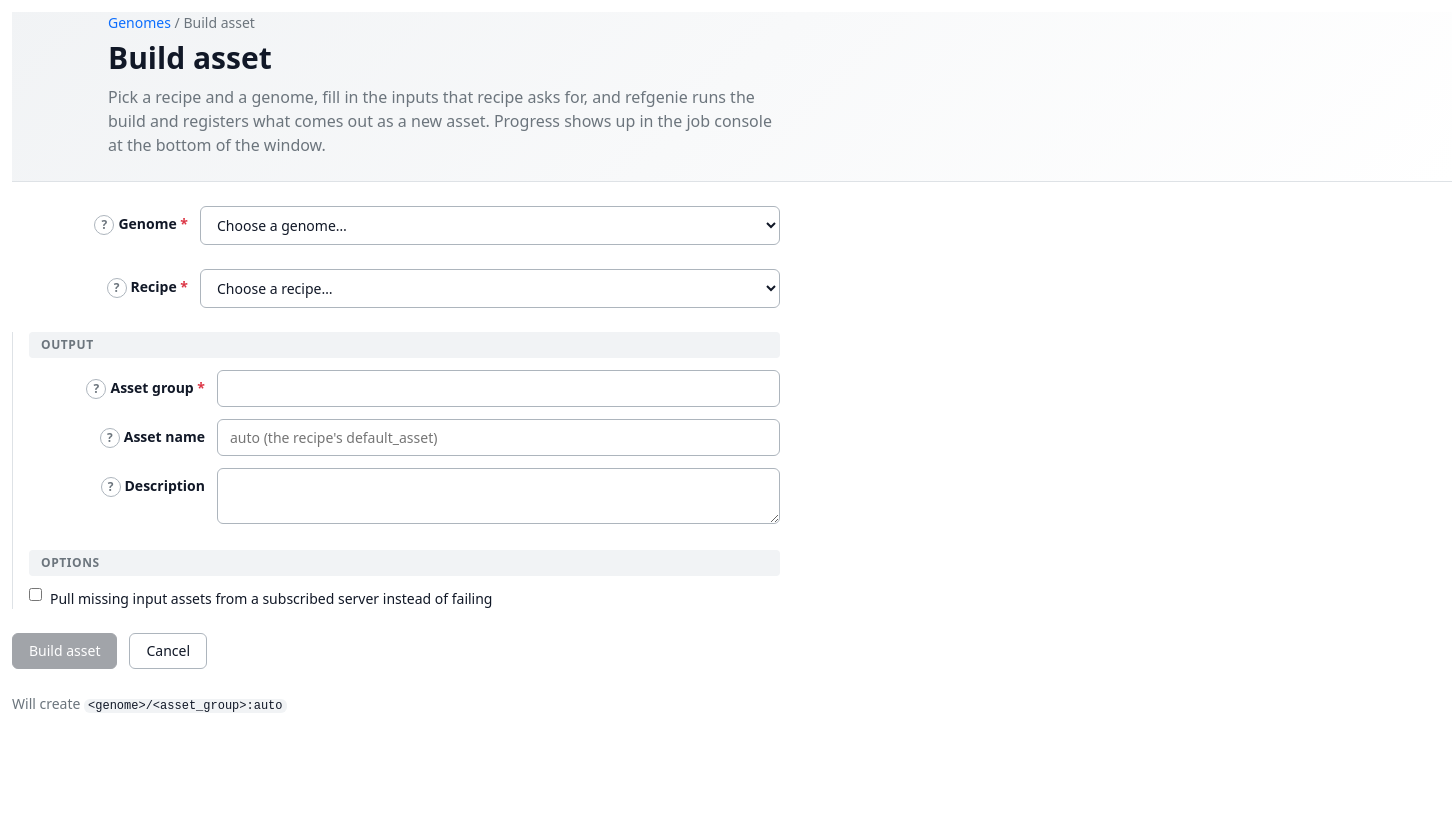
Test: BuildPage › says under the recipe when no container engine can run its image
Step 1. Select "hg38" in the dropdown labelled "Genome *" → (490, 226), box [200,206,780,245]
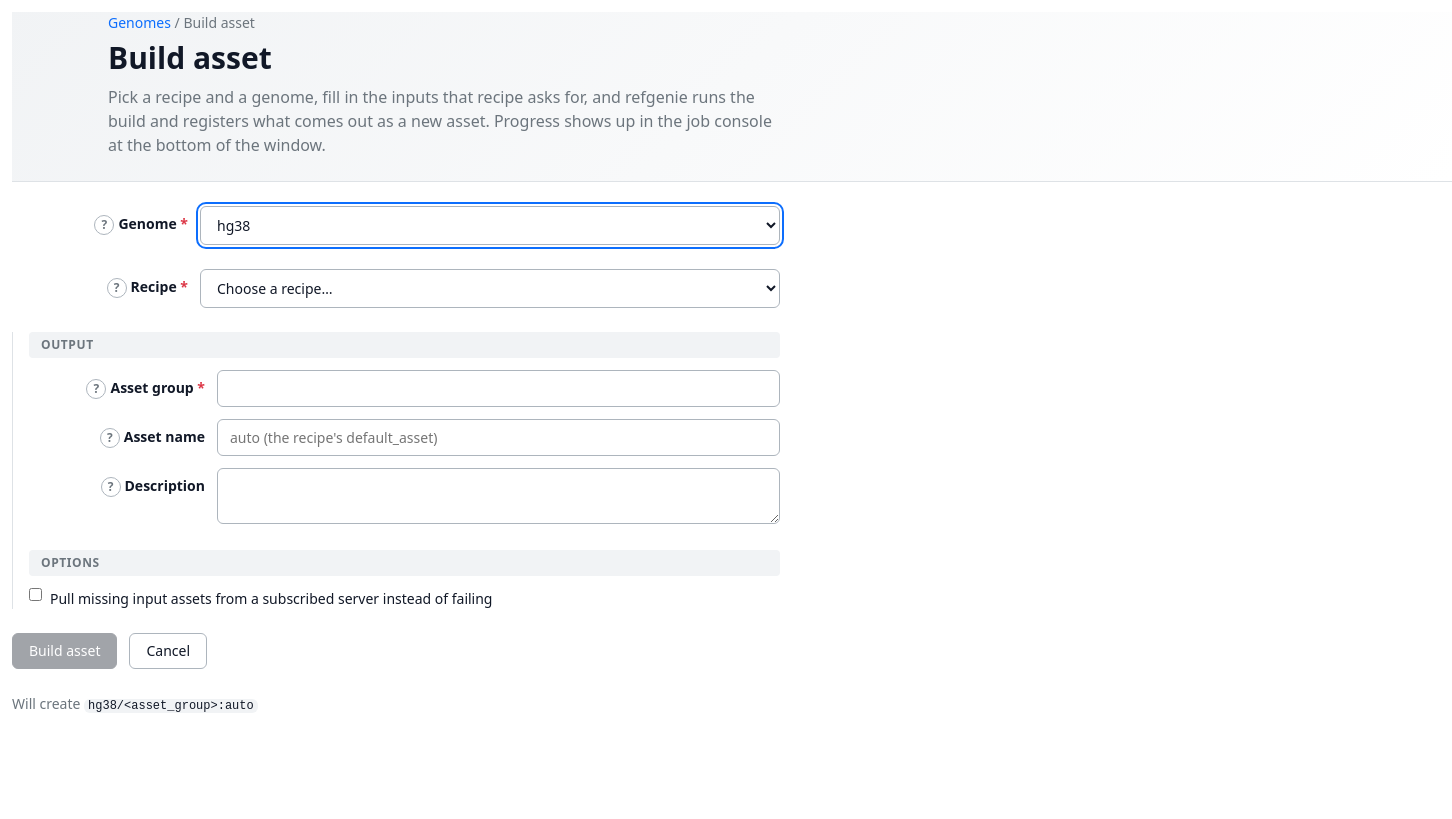
Step 2. Select "bowtie2_index" in the dropdown labelled "Recipe *" → (490, 288), box [200,269,780,308]
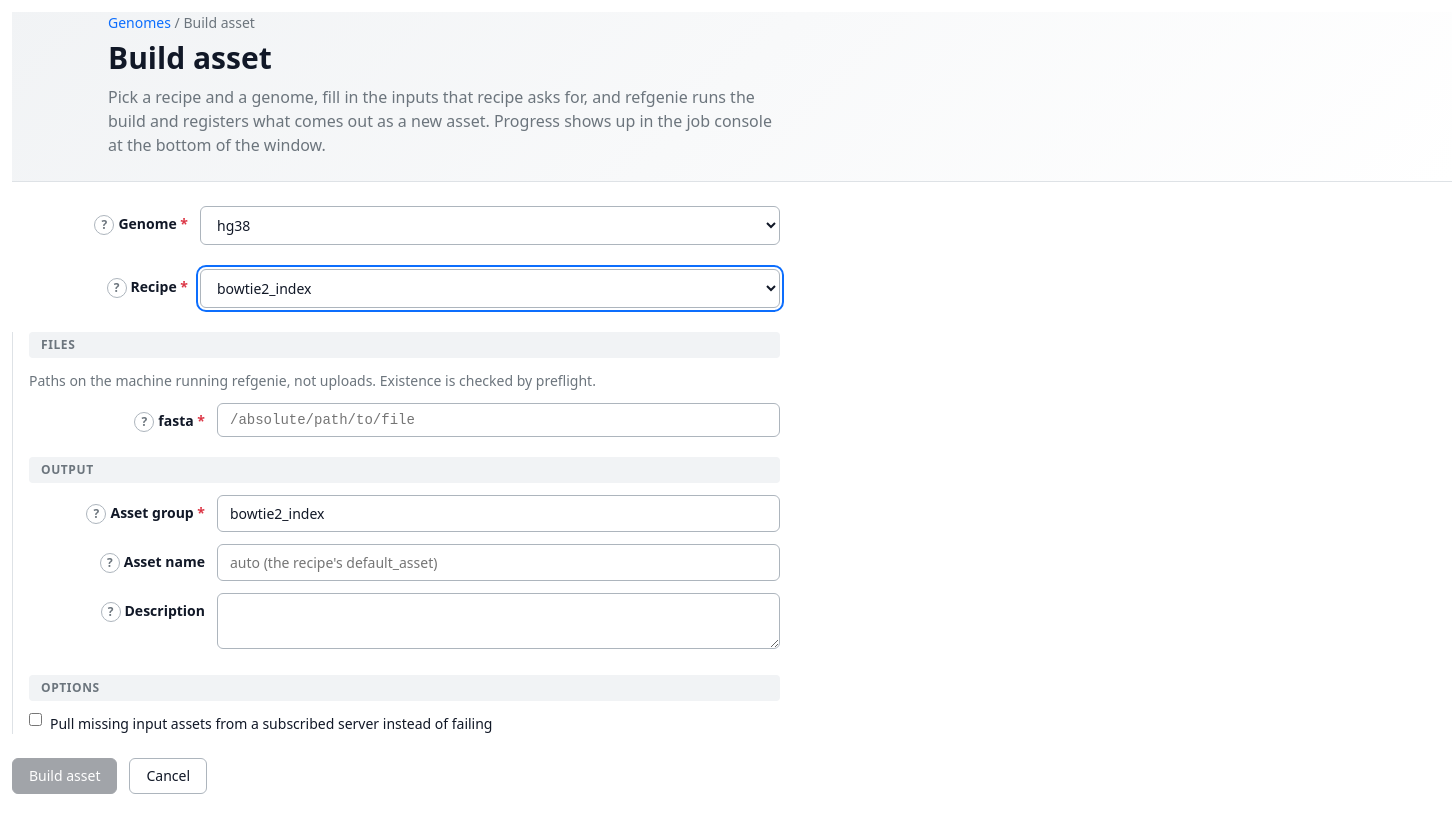
Step 3. Type "/data/hg38.fa" into the field labelled "fasta *" → (498, 420), box [217,403,780,437]
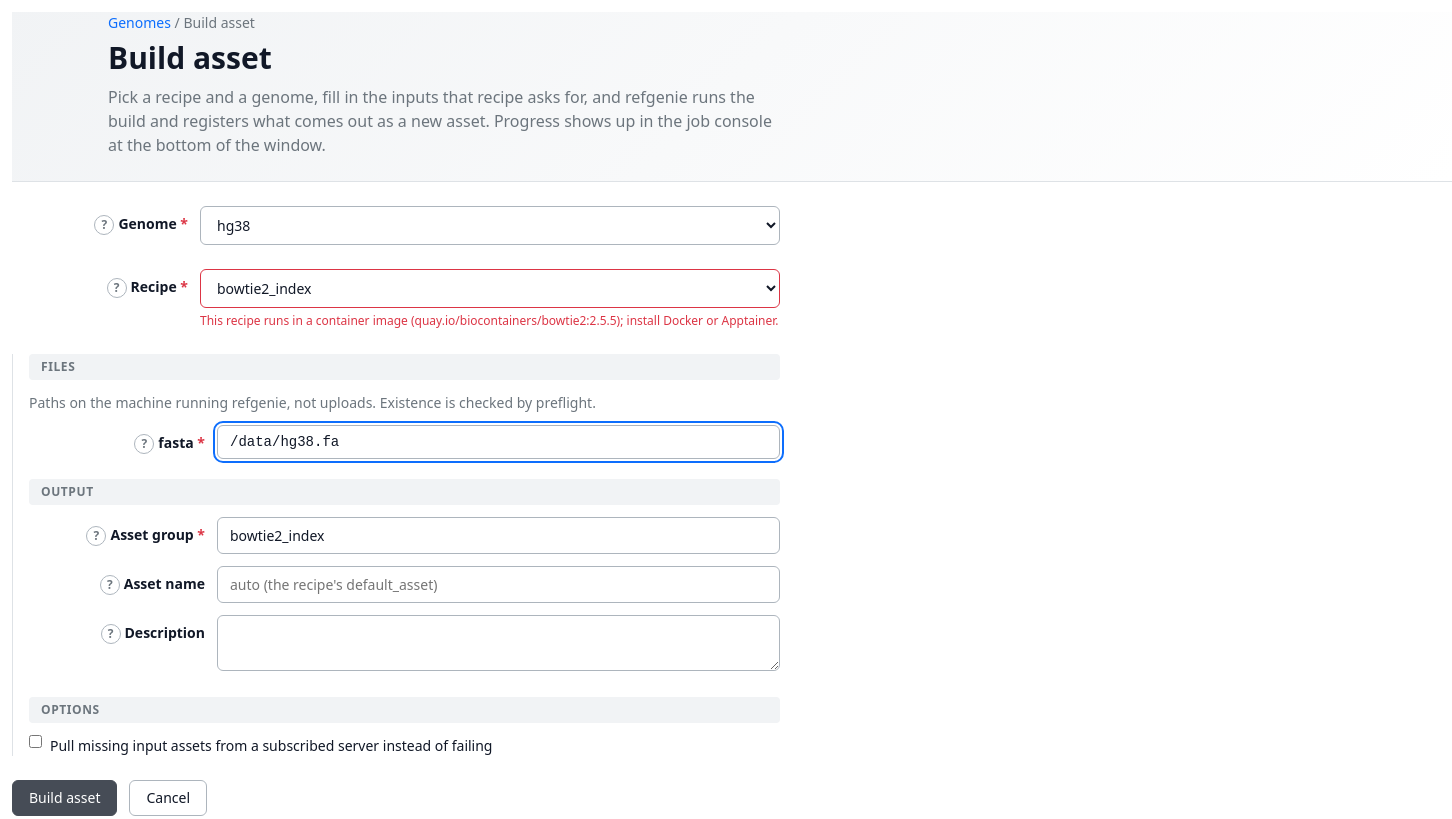
Expected: the text "This recipe runs in a container image (quay.io/biocontainers/bowtie2:2.5.5); install Docker or Apptainer." is shown once, [200,312,780,330]
